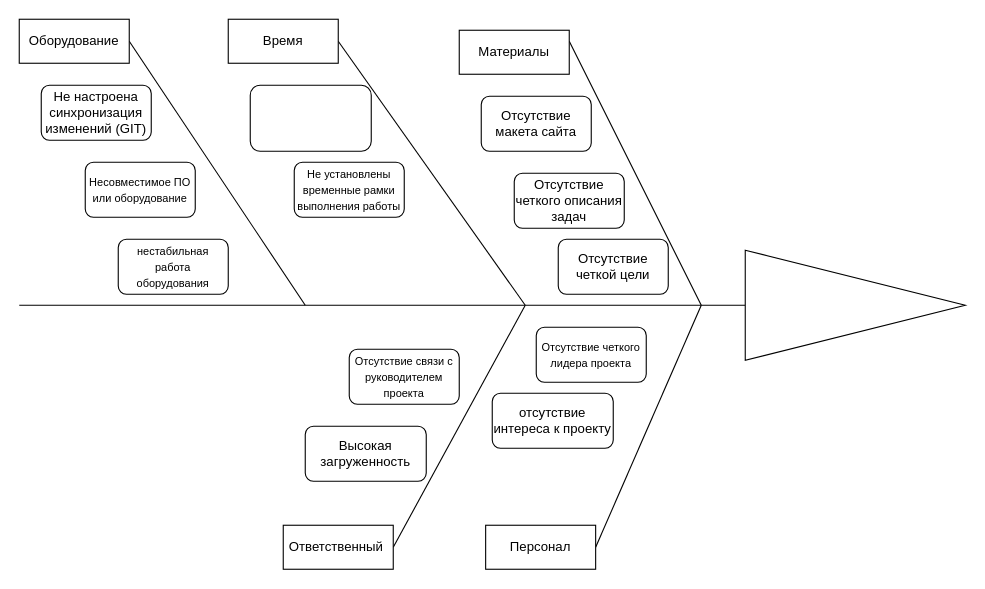
The diagram is 985 pixels wide and 589 high, and some of its shapes have lost their labels. The centre of each missing label's shape, as x and y in pixels:
"Не проведение meetings во время разработки проекта" goes at point 310,117.
"Отсутствие контроля за выполнением задач" goes at point 854,304.
